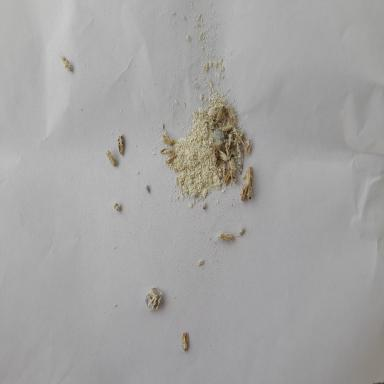pbw: (246, 166, 254, 200), (160, 130, 174, 146), (215, 105, 227, 123), (230, 127, 243, 143), (220, 122, 236, 134), (105, 150, 117, 166), (116, 134, 124, 156), (239, 182, 248, 201), (164, 151, 178, 163), (242, 138, 251, 156), (216, 233, 234, 242), (227, 106, 236, 122), (217, 149, 229, 161), (181, 332, 188, 352), (229, 156, 236, 176), (220, 161, 227, 180), (237, 130, 244, 148), (224, 170, 231, 186), (160, 148, 174, 154), (230, 138, 237, 150), (232, 175, 239, 184)
